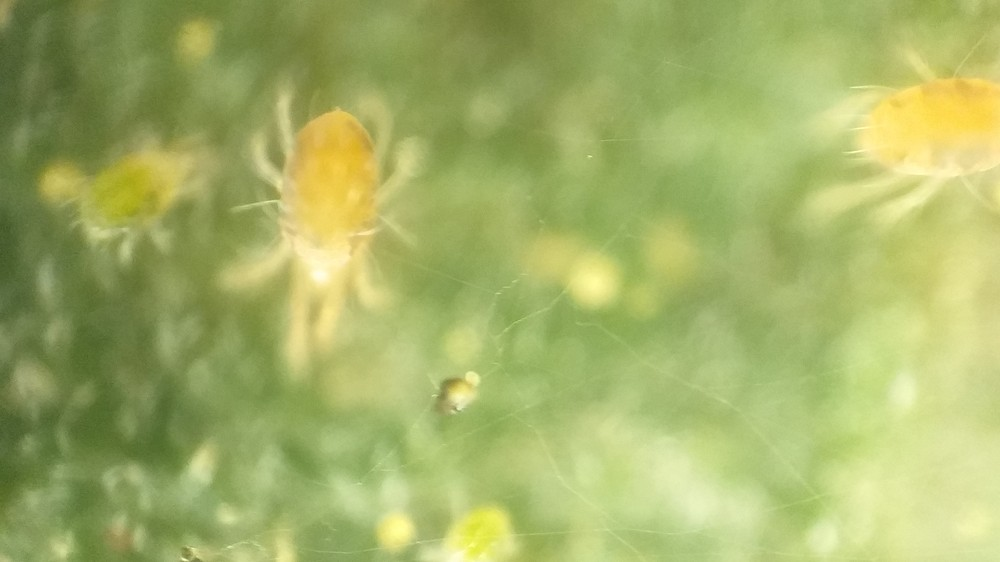Aracnido Rojo: (220, 75, 431, 392), (776, 25, 1000, 261), (54, 123, 218, 269)
